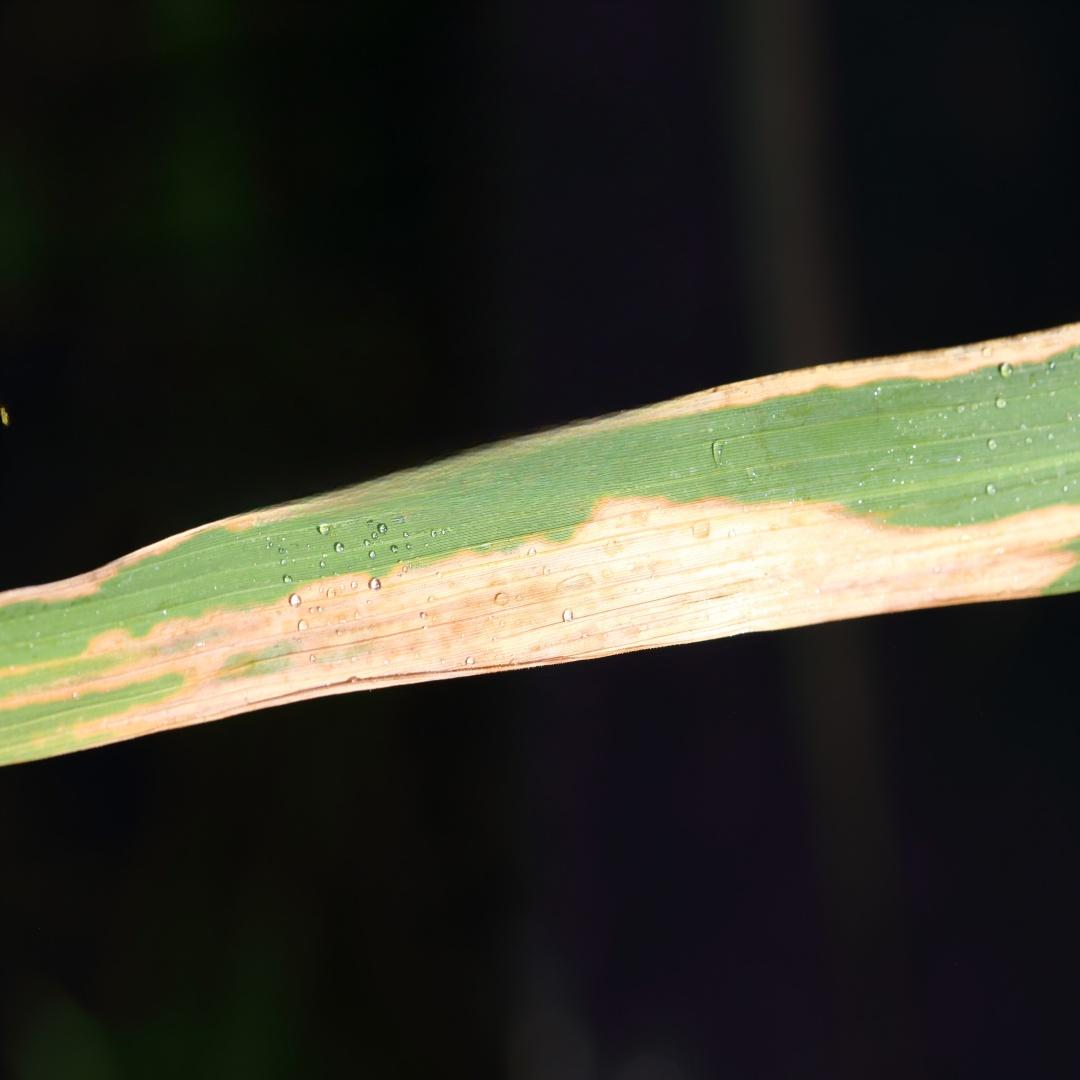BLB: (4, 325, 1078, 607), (1, 491, 1079, 755)
LEAF: (0, 324, 1079, 765)
